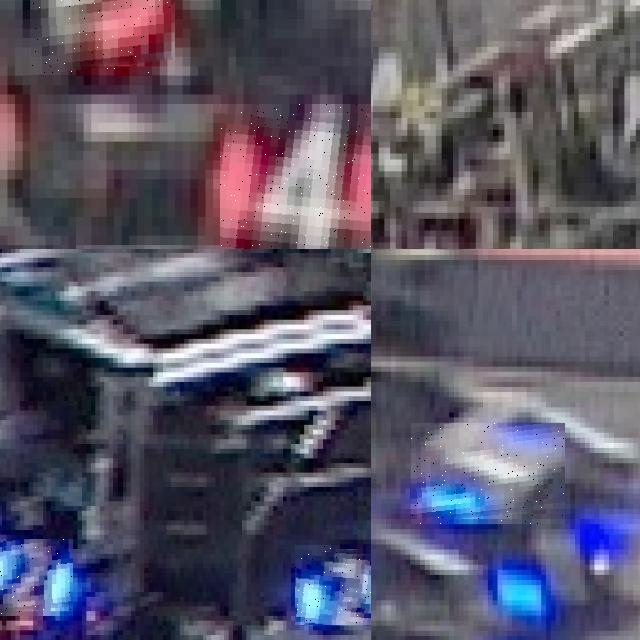B1: (411, 423, 565, 524), (492, 514, 628, 626)
B2: (295, 544, 371, 625), (0, 539, 73, 615)
R4: (220, 103, 371, 249), (30, 0, 175, 75)
